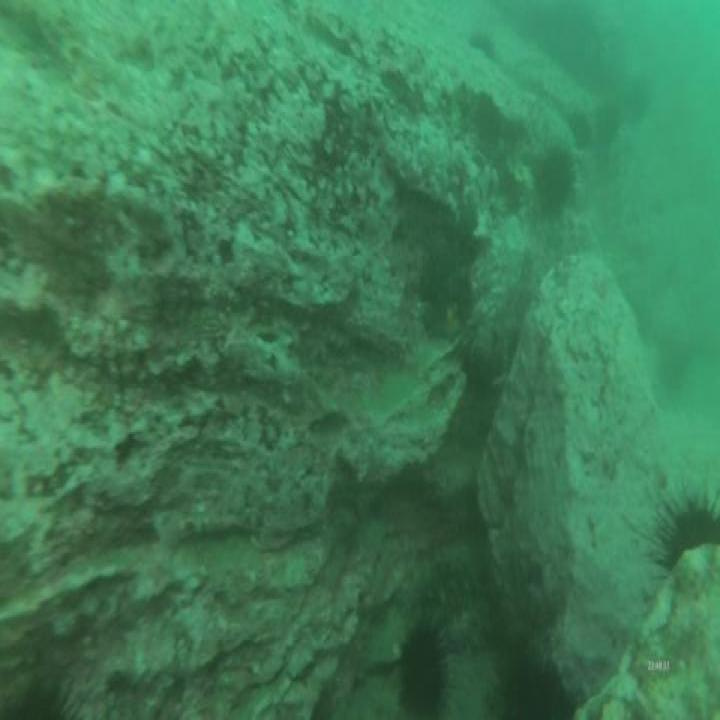echinus: (650, 471, 720, 599), (484, 643, 579, 720), (394, 615, 452, 720), (535, 139, 578, 222), (592, 94, 623, 151), (564, 108, 594, 154), (466, 25, 499, 62)
holothurian: (398, 537, 488, 631), (438, 592, 507, 656)
